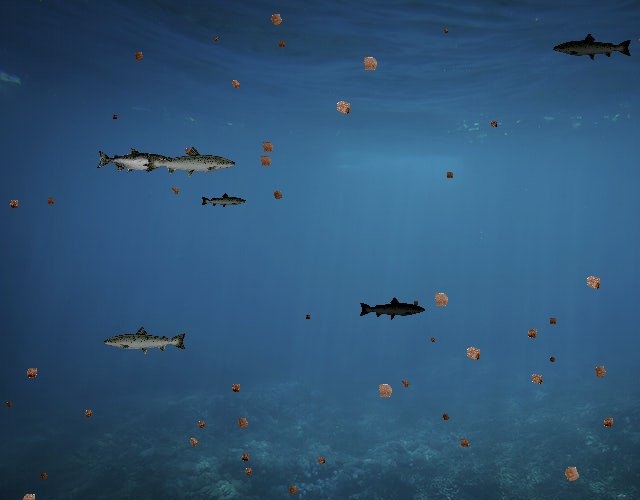Fish: (143, 146, 237, 179), (102, 325, 188, 356), (553, 32, 634, 62), (97, 147, 170, 173), (358, 296, 426, 321), (200, 193, 247, 210)
Pellet: (80, 406, 96, 422), (486, 117, 501, 131), (546, 353, 559, 366), (210, 34, 220, 44)
